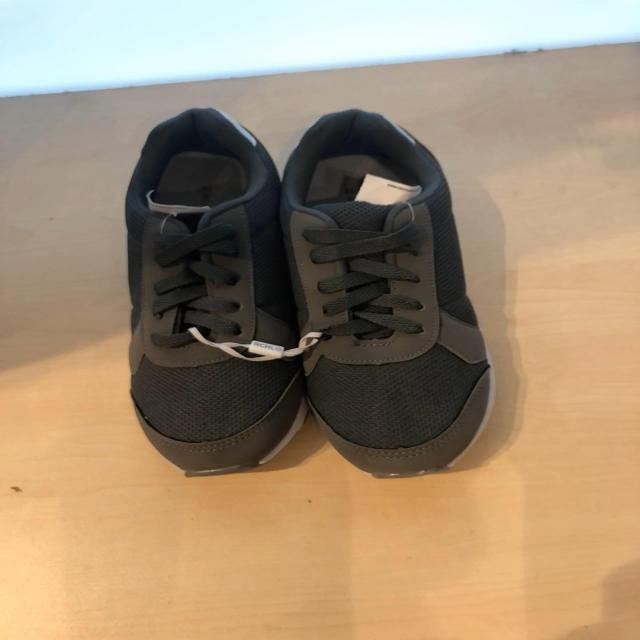shoe: (281, 110, 495, 477), (135, 151, 295, 475)
